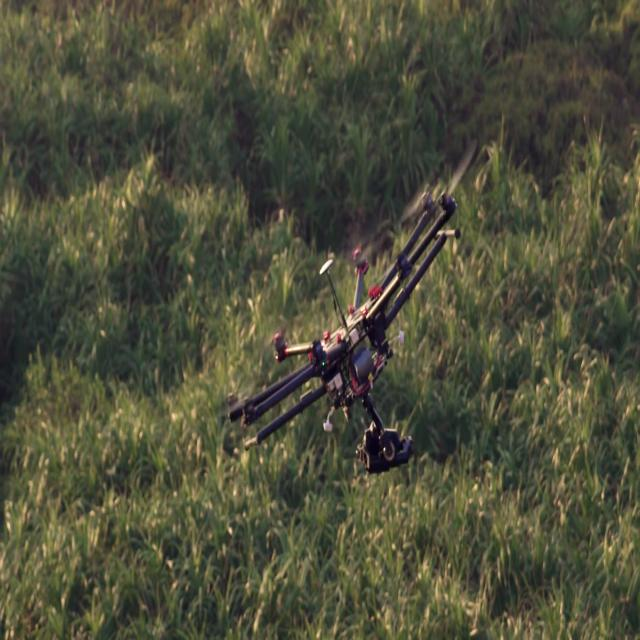drone: (213, 193, 463, 503)
